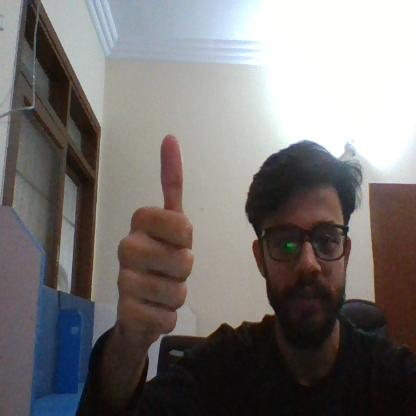thumbs-up: (115, 136, 200, 333)
